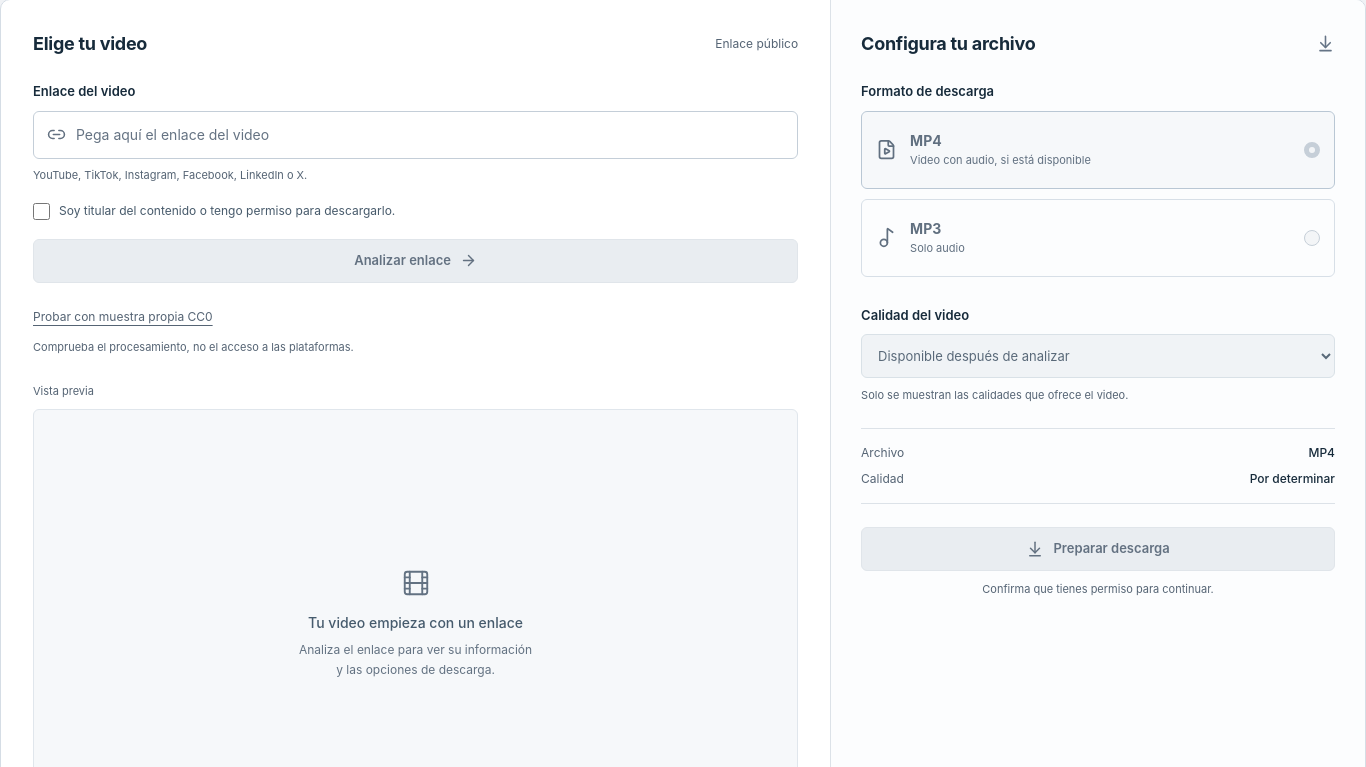
Test: Export desk › disables unavailable MP3 from actual inspected metadata
Type "https://www.youtube.com/watch?v=example" into the field labelled "Enlace del video" at {"x": 430, "y": 134}, box [76,112,784,158]
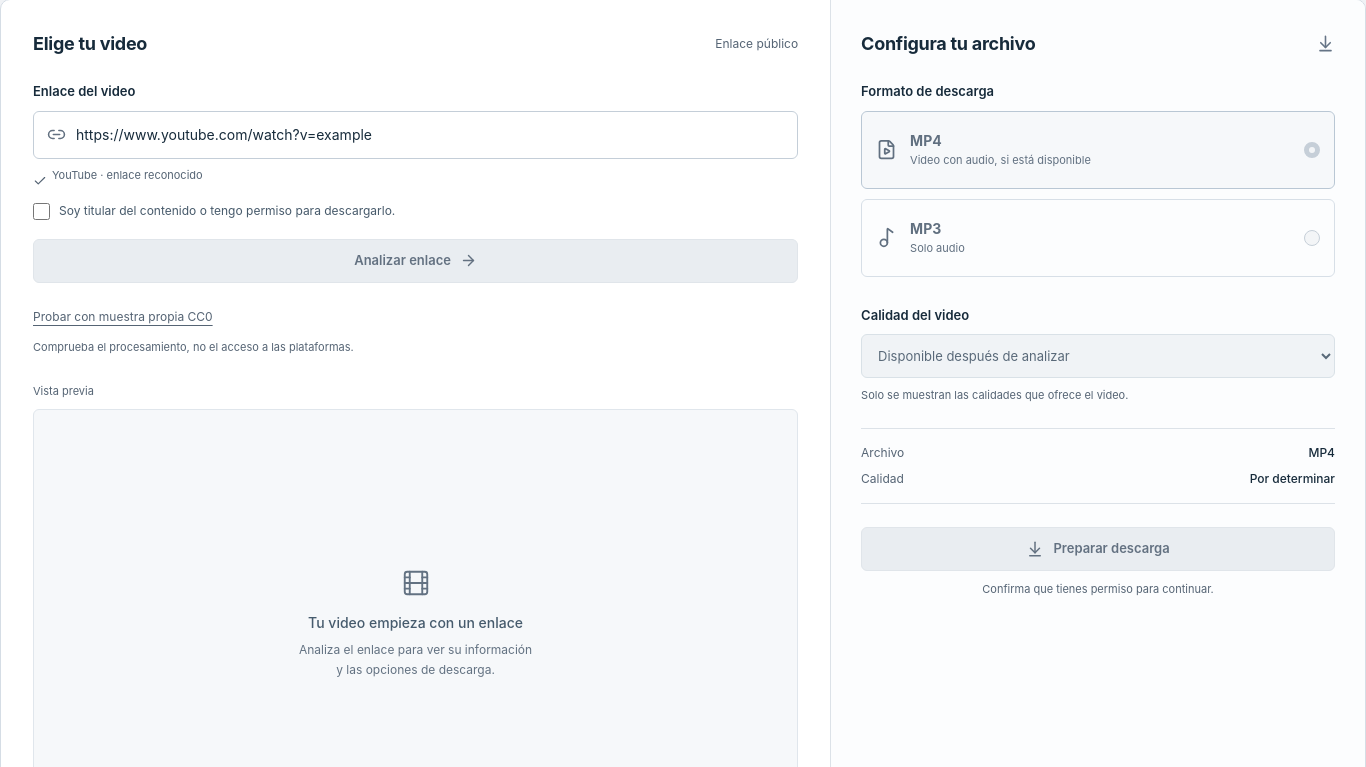
Click the checkbox at {"x": 42, "y": 211}, box [33,202,50,220]
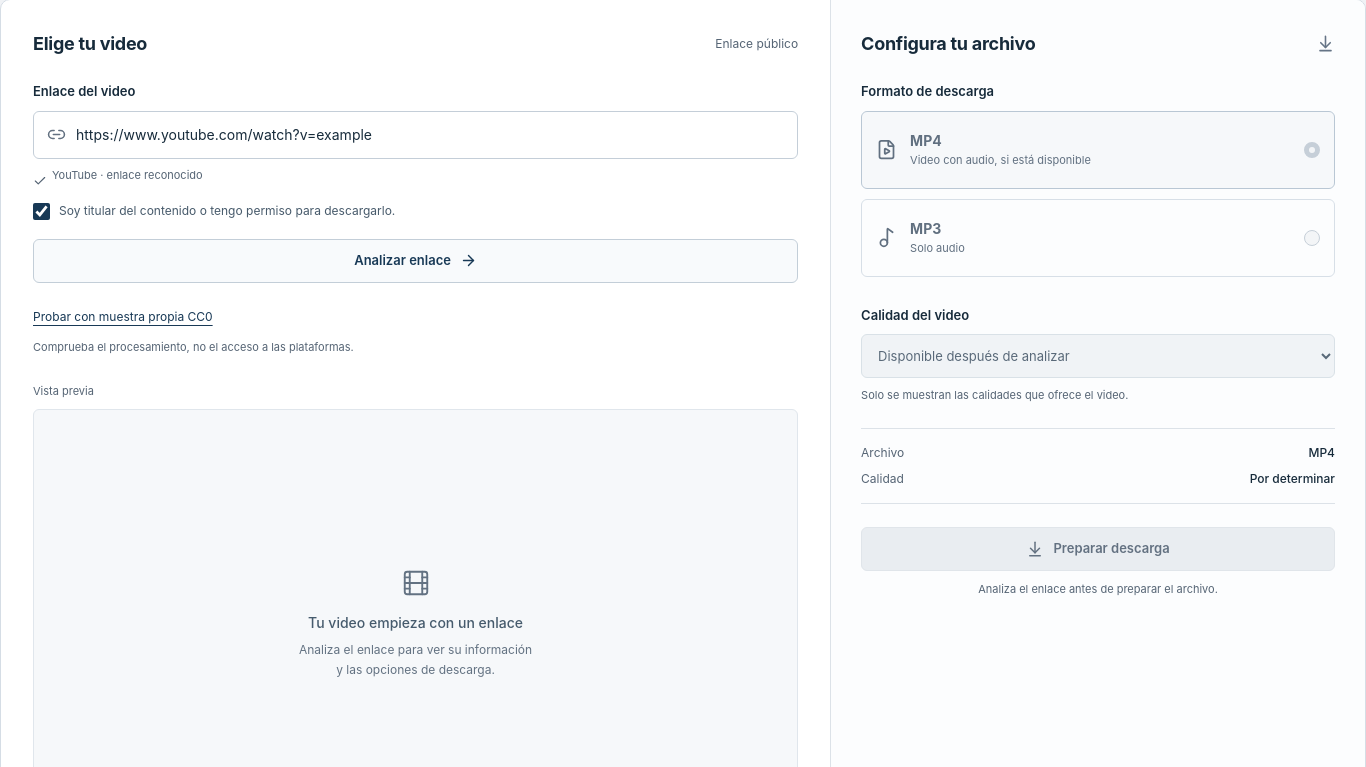
Click the button "Analizar enlace" at {"x": 416, "y": 260}, box [33,238,798,282]
(page scrolled)
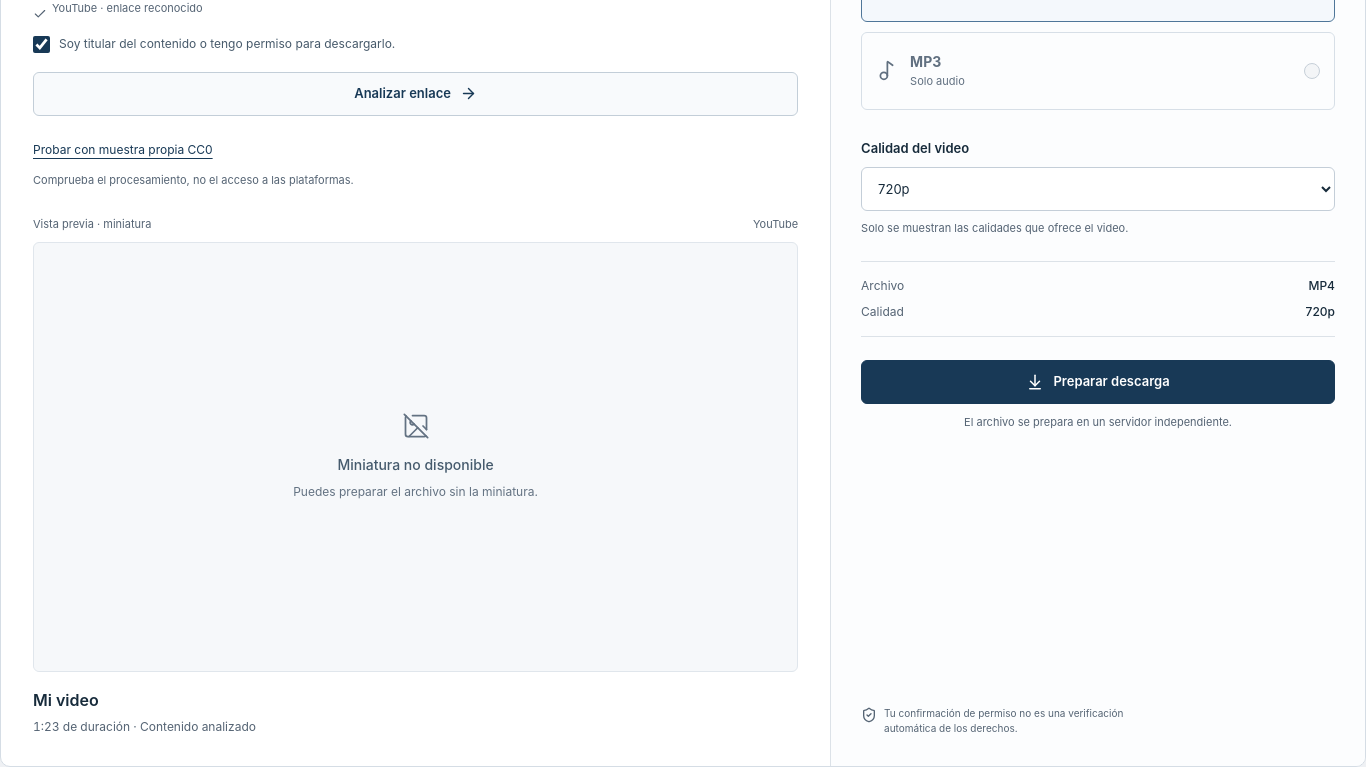
Expected: the radio button labelled "MP3 Solo audio" is disabled, [861,32,1335,110]
Now the heading "Mi video" is shown, box [33,690,99,710]
